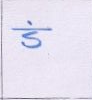anusvara: (28, 22, 32, 25)
